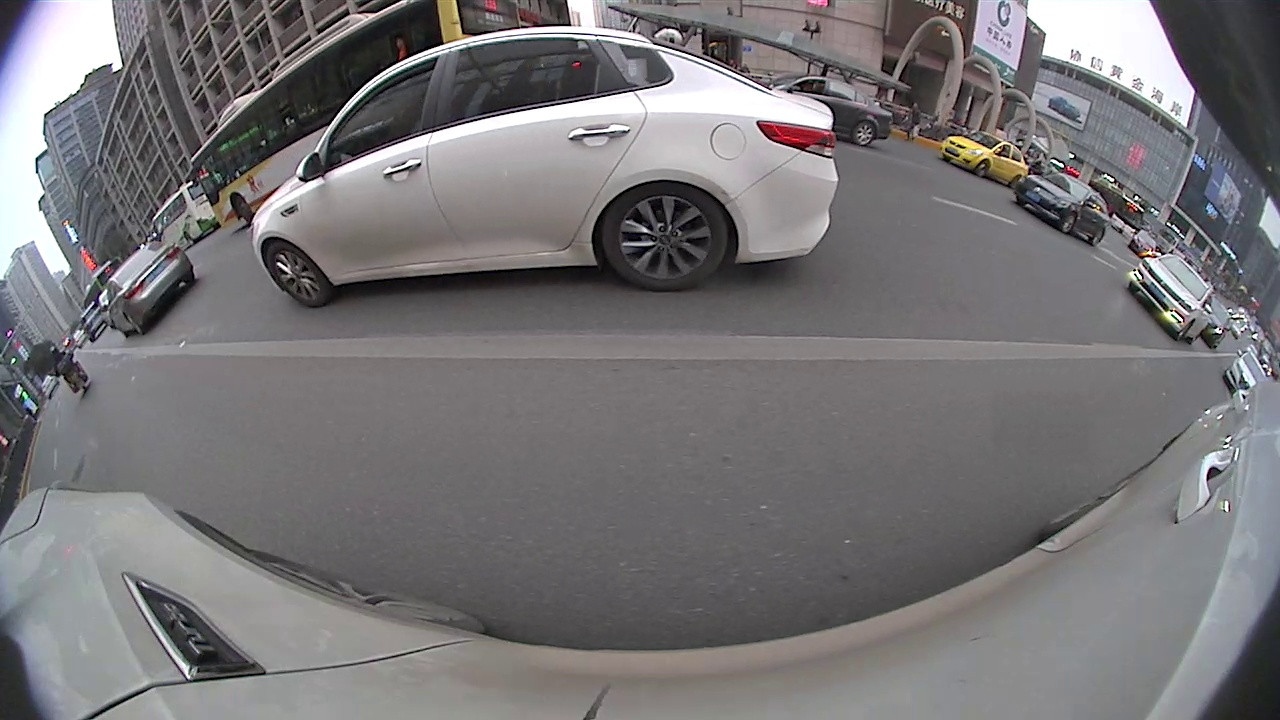bus: (192, 3, 527, 238)
car: (247, 23, 839, 311), (753, 76, 893, 154), (102, 241, 194, 342), (1123, 258, 1222, 347), (1007, 170, 1113, 249), (938, 127, 1033, 188)
front: (265, 238, 331, 312), (1060, 212, 1077, 235), (973, 158, 990, 177)
rear: (601, 181, 725, 290), (853, 120, 876, 148), (1090, 230, 1105, 250)
rider: (47, 342, 90, 404)
